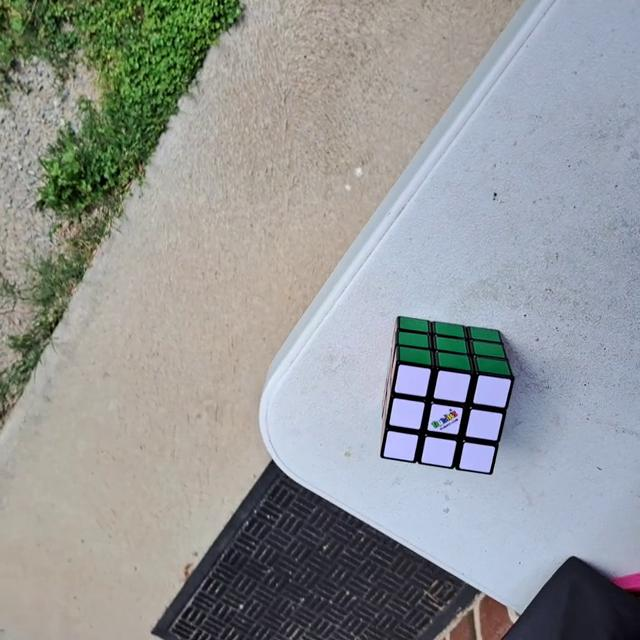rubix_cube: (376, 312, 516, 478)
